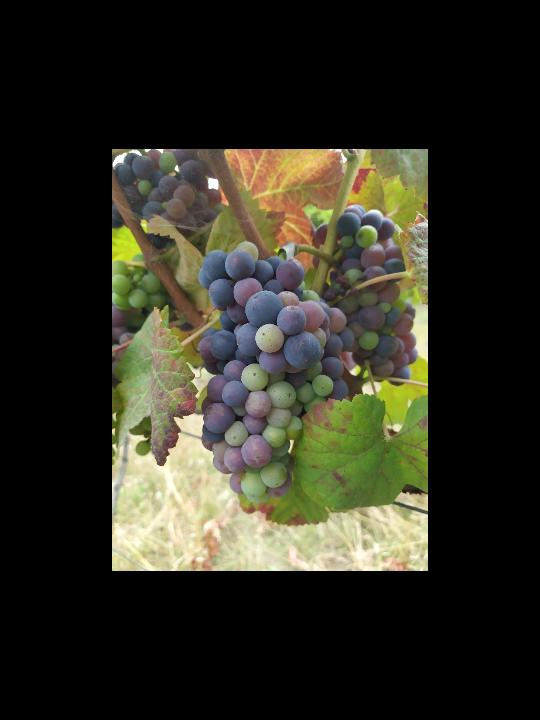grape: (196, 238, 356, 505)
